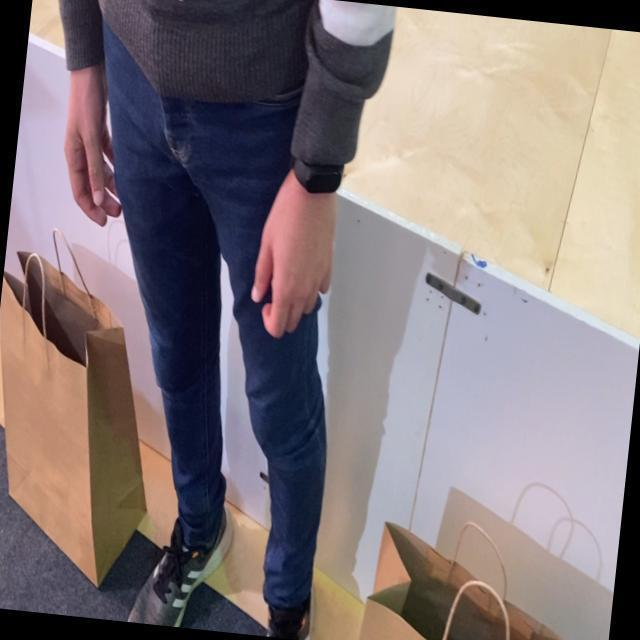Paper_Bag: (0, 221, 174, 590)
